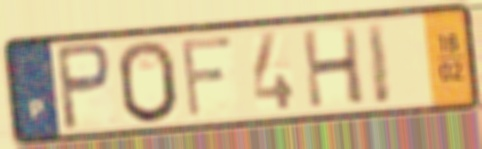4: (251, 28, 297, 115)
F: (177, 32, 236, 122)
H: (298, 23, 368, 112)
I: (362, 18, 394, 109)
O: (115, 37, 182, 126)
P: (53, 40, 115, 134)
